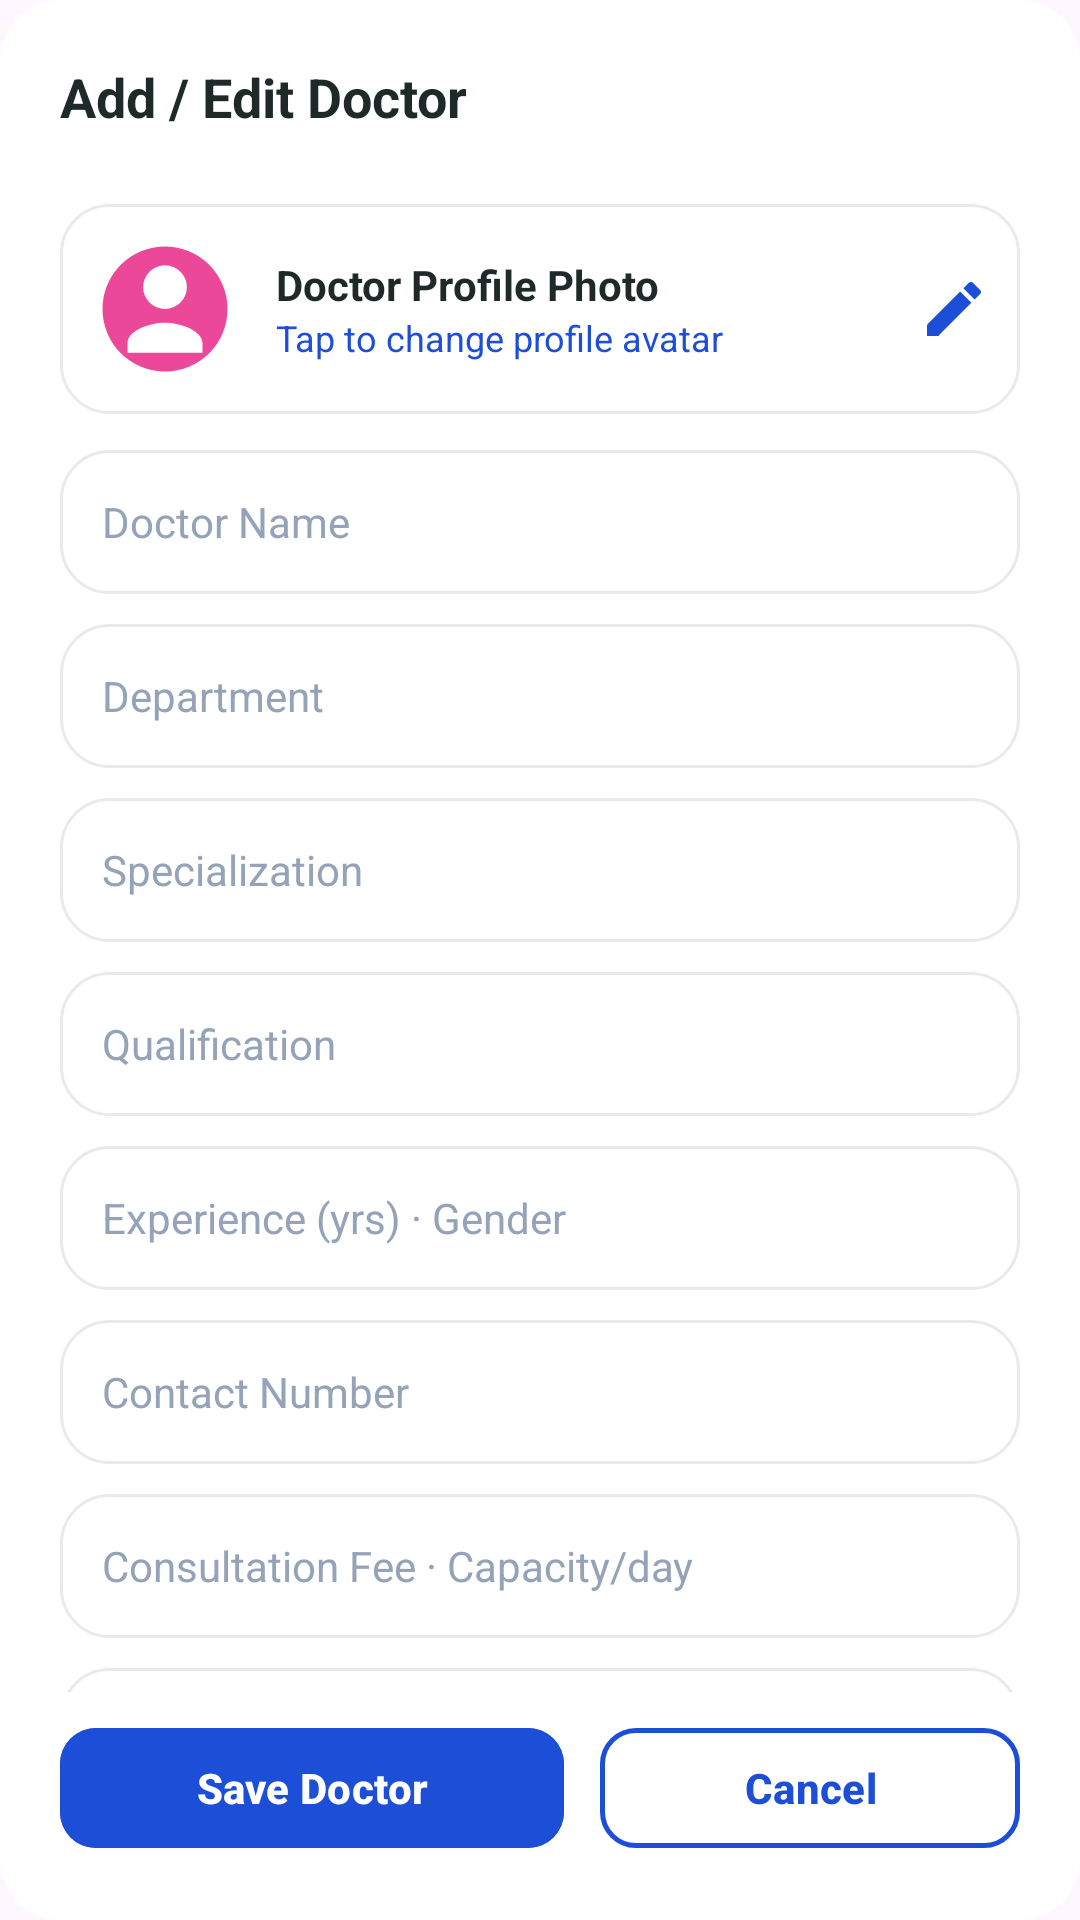

Where icons sit on this 1080w x 1920h app screen, as (x1, y1, x2, y2):
edit pencil: (927, 282, 981, 336)
